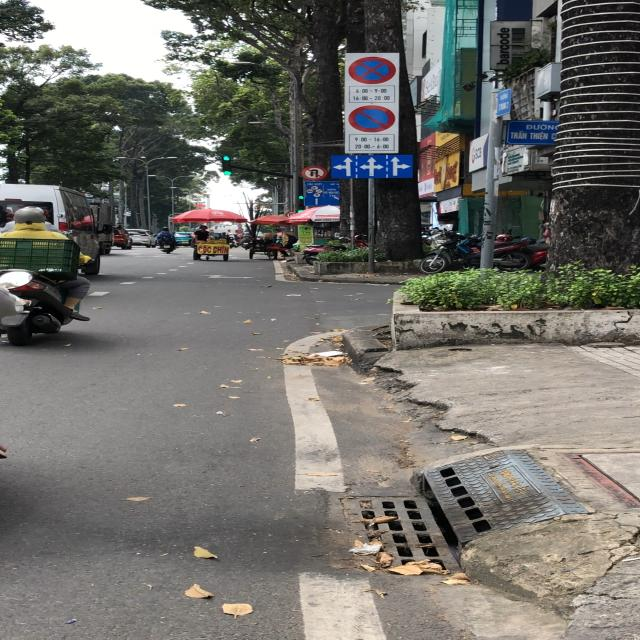Bien bao cam do xe: (346, 103, 393, 134)
Bien bao cam dung xe va do xe: (347, 55, 399, 85)
Bien bao cam quay dau xe: (300, 164, 328, 180)
